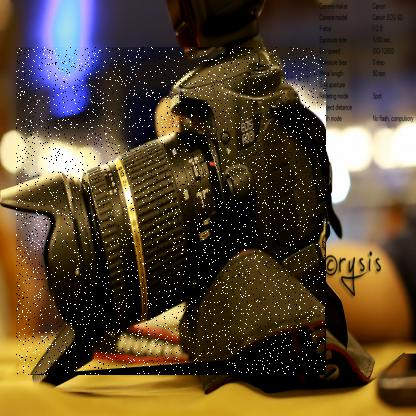Camera: (17, 48, 328, 377)
